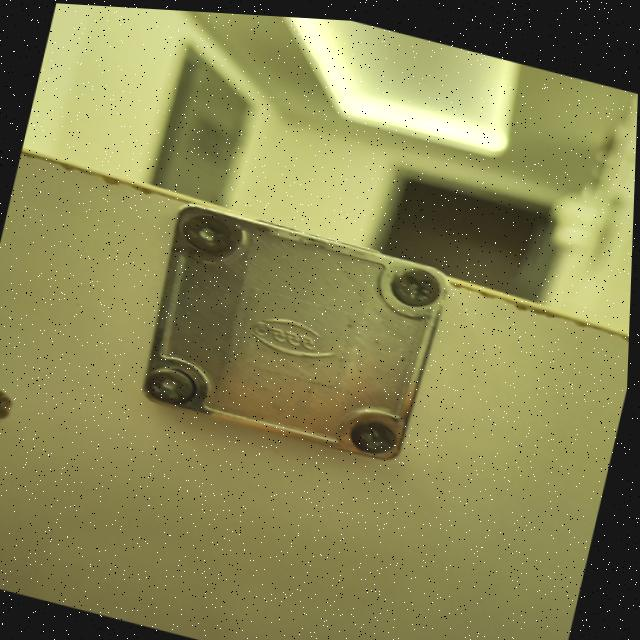Pozidriv: (383, 263, 444, 318), (177, 209, 239, 259), (148, 369, 194, 409), (350, 420, 396, 459)
